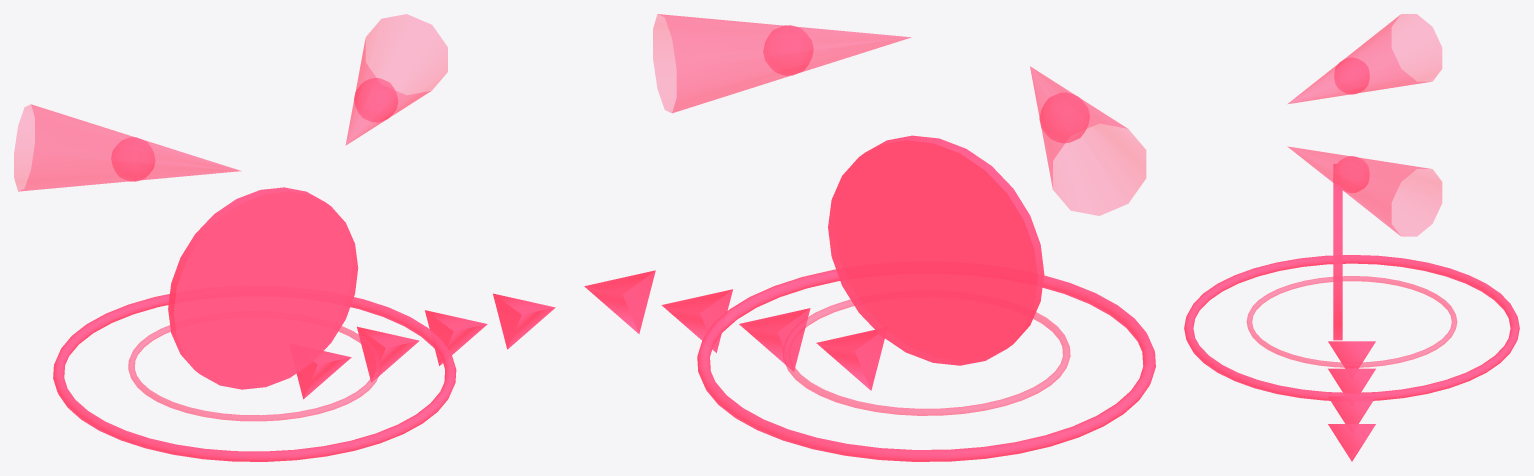
File: vfx_wave_start.glb
3 views of the same model, side by side, from view 1: azimuth 30°, elevation 25°; view 2: azimuth 150°, elevation 25°; view 3: azimuth 270°, elevation 25° (orthographic). The views are drawn at different scales.
Parts seen in each view (by area): view 1: ws_iris_flare, ws_sweep-1, ws_ring, ws_sweep1, ws_ring_b, ws_chevron3, ws_chevron1, ws_lamp_glow-1, ws_lamp_glow1, ws_chevron2, ws_chevron0; view 2: ws_iris_flare, ws_sweep1, ws_ring, ws_sweep-1, ws_ring_b, ws_chevron3, ws_chevron1, ws_chevron0, ws_lamp_glow-1, ws_lamp_glow1, ws_chevron2; view 3: ws_ring, ws_sweep1, ws_sweep-1, ws_ring_b, ws_iris_flare, ws_lamp_glow1, ws_lamp_glow-1, ws_chevron3, ws_chevron2, ws_chevron0, ws_chevron1.
Boxes of the visible parts, box(x1,y1,x2,y2) form: ws_iris_flare: box(168, 187, 358, 389); ws_sweep-1: box(14, 104, 240, 191); ws_ring: box(53, 294, 456, 461); ws_sweep1: box(346, 14, 447, 144); ws_ring_b: box(128, 325, 381, 421); ws_chevron3: box(493, 293, 555, 349); ws_chevron1: box(357, 326, 419, 382); ws_lamp_glow-1: box(111, 137, 155, 181); ws_lamp_glow1: box(354, 78, 397, 122); ws_chevron2: box(425, 310, 487, 365); ws_chevron0: box(296, 351, 351, 399); ws_iris_flare: box(828, 135, 1044, 365); ws_sweep1: box(653, 14, 910, 113); ws_ring: box(697, 269, 1155, 461); ws_sweep-1: box(1030, 66, 1145, 215); ws_ring_b: box(782, 299, 1070, 415); ws_chevron3: box(584, 270, 655, 333); ws_chevron1: box(739, 308, 810, 371); ws_chevron0: box(816, 330, 884, 390); ws_lamp_glow-1: box(1039, 92, 1089, 143); ws_lamp_glow1: box(763, 25, 813, 75); ws_chevron2: box(661, 289, 732, 352); ws_ring: box(1184, 255, 1519, 400); ws_sweep1: box(1287, 146, 1441, 236); ws_sweep-1: box(1288, 14, 1441, 103); ws_ring_b: box(1246, 276, 1457, 367); ws_iris_flare: box(1333, 164, 1342, 340); ws_lamp_glow1: box(1334, 156, 1369, 192); ws_lamp_glow-1: box(1334, 57, 1369, 94); ws_chevron3: box(1328, 424, 1375, 461); ws_chevron2: box(1328, 396, 1375, 423); ws_chevron0: box(1328, 341, 1375, 368); ws_chevron1: box(1328, 368, 1375, 392).
Size of the model in its own units: 10.66 by 6.34 by 7.2.
